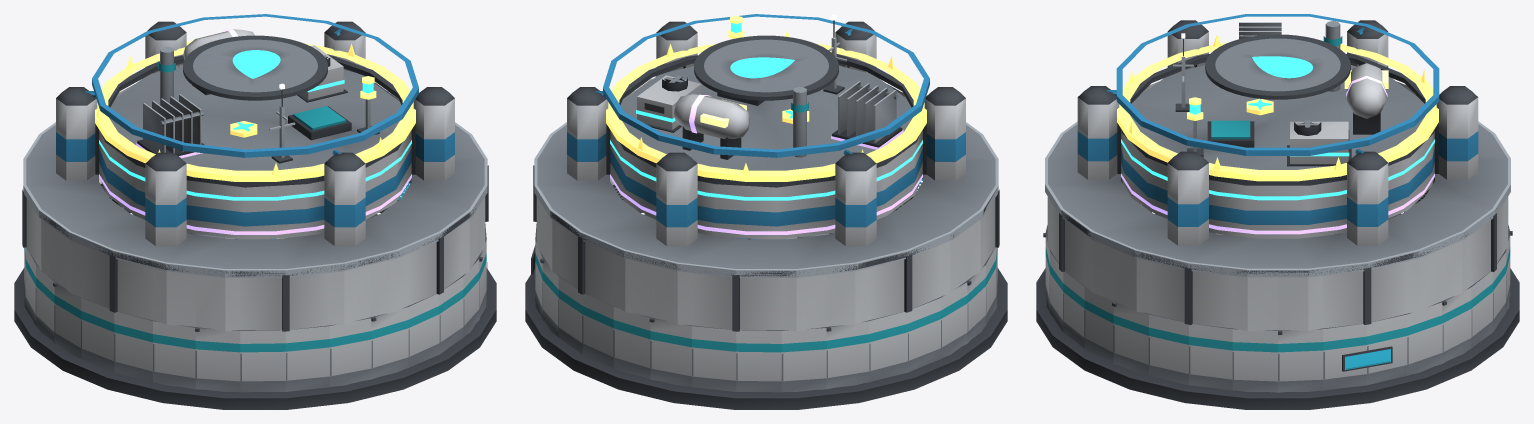
The model's file is water_recycler_s.glb.
3 renders of one model, left to right at view 1: azimuth 30°, elevation 25°; view 2: azimuth 150°, elevation 25°; view 3: azimuth 270°, elevation 25°, orthographic.
Parts seen in each view (by area): view 1: Roof, Base, L5, L4, Wall_21, Wall_20, Wall_22, Wall_19, Wall_23, Upper_21, Upper_20, Upper_18 (+29 smaller); view 2: Roof, Base, L4, L5, L3, Wall_10, Wall_11, Wall_09, Wall_12, Upper_10, Wall_08, Upper_11 (+27 smaller); view 3: Roof, Base, L5, L4, L3, Wall_00, Wall_31, Wall_30, Upper_31, Wall_29, Upper_00, Upper_01 (+30 smaller).
Part boxes in pixels (<box>): Roof: <box>26,14,484,268</box>; Base: <box>14,215,496,409</box>; L5: <box>95,43,415,181</box>; L4: <box>99,29,411,234</box>; Wall_21: <box>240,330,285,392</box>; Wall_20: <box>195,327,240,392</box>; Wall_22: <box>285,325,329,391</box>; Wall_19: <box>153,320,195,389</box>; Wall_23: <box>329,317,371,387</box>; Upper_21: <box>240,271,285,331</box>; Upper_20: <box>196,270,240,331</box>; Upper_18: <box>112,252,153,320</box>; Roof: <box>537,14,995,268</box>; Base: <box>525,215,1007,409</box>; L4: <box>610,81,922,234</box>; L5: <box>606,15,926,181</box>; L3: <box>610,75,922,200</box>; Wall_10: <box>736,330,781,392</box>; Wall_11: <box>781,327,826,392</box>; Wall_09: <box>692,325,736,391</box>; Wall_12: <box>826,320,868,389</box>; Upper_10: <box>736,271,781,331</box>; Wall_08: <box>649,317,692,387</box>; Upper_11: <box>781,269,825,331</box>; Roof: <box>1048,14,1507,268</box>; Base: <box>1036,214,1519,409</box>; L5: <box>1117,34,1438,181</box>; L4: <box>1121,22,1434,234</box>; L3: <box>1121,119,1434,200</box>; Wall_00: <box>1278,328,1323,392</box>; Wall_31: <box>1232,328,1277,392</box>; Wall_30: <box>1189,324,1232,390</box>; Upper_31: <box>1233,270,1277,330</box>; Wall_29: <box>1148,314,1188,385</box>; Upper_00: <box>1278,270,1322,330</box>; Upper_01: <box>1323,264,1367,328</box>.
Bounding box in the file's own units: 9.32 × 5.61 × 9.32.
